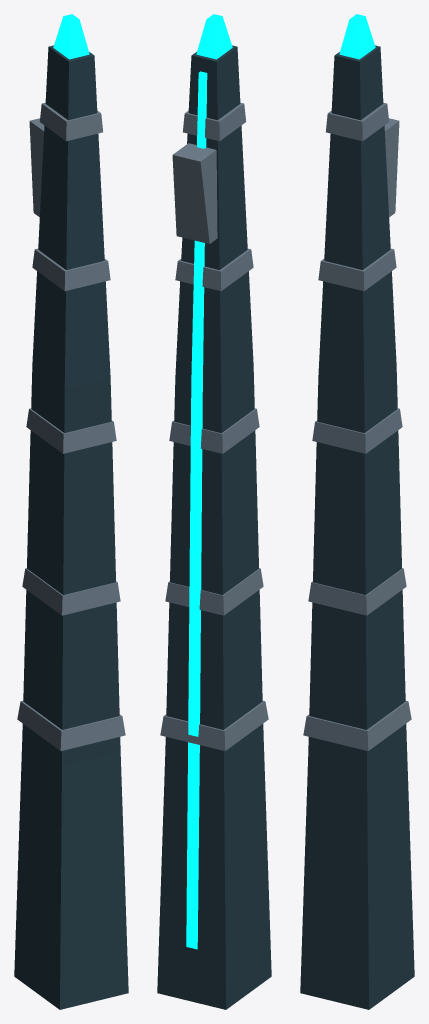
Rendered from stadium_pylon.glb.
The picture shows the model from 3 angles, left to right: view 1: azimuth 30°, elevation 25°; view 2: azimuth 150°, elevation 25°; view 3: azimuth 330°, elevation 25°; orthographic projection.
Visible parts, largest first — view 1: Stadium_Pylon; view 2: Stadium_Pylon; view 3: Stadium_Pylon.
Part boxes in pixels (x1,y1,x2,y2): Stadium_Pylon: [14, 14, 128, 1009]; Stadium_Pylon: [157, 14, 271, 1009]; Stadium_Pylon: [300, 14, 414, 1009].
Bounding box in the file's own units: 5.4 × 72.5 × 6.9.
